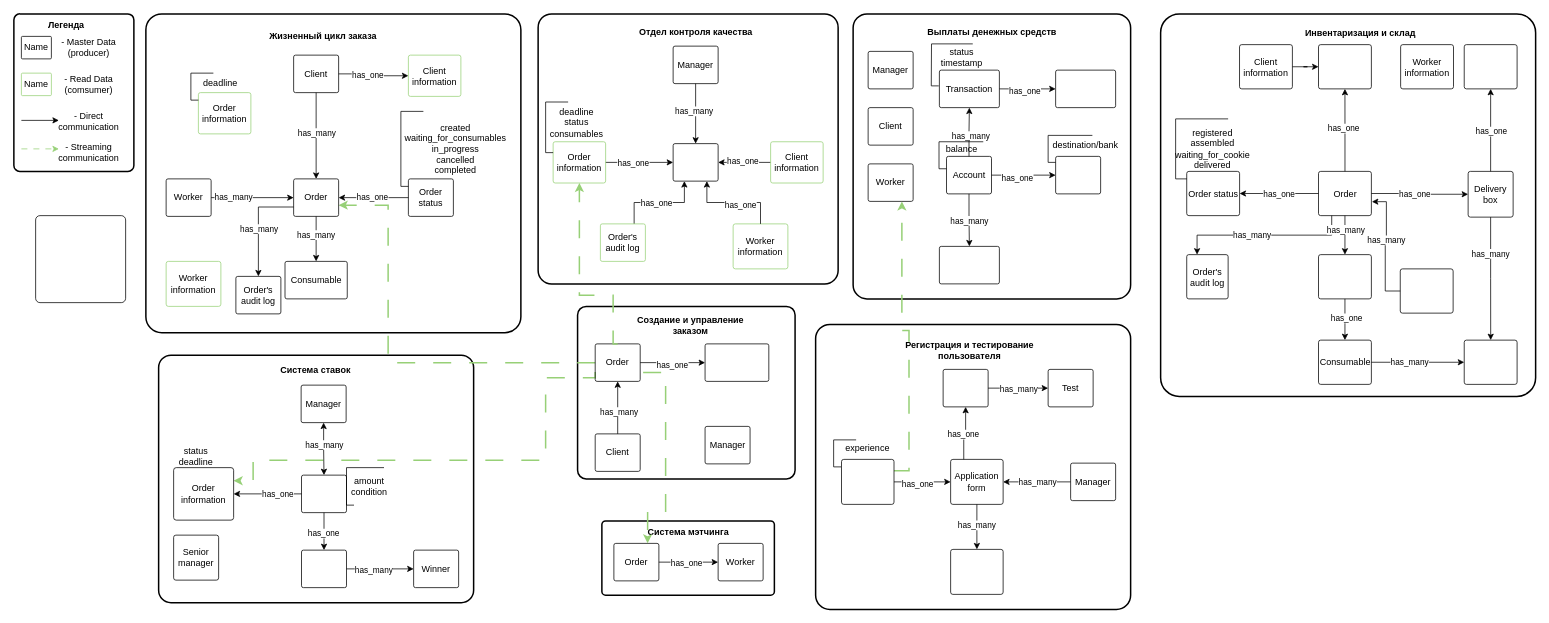
Image size: 1549x623. Some labels were removed from this diagram. Each missing label, with the box of its shape:
Account settings: (1055, 156, 1101, 194)
Application form's audit log: (950, 549, 1003, 594)
Bet: (301, 474, 346, 513)
Consumable warehouse position: (1463, 339, 1517, 384)
Cookie: (1318, 44, 1371, 89)
Delivery address: (1463, 44, 1517, 89)
Employee (warehouse): (1400, 268, 1453, 313)
Invoice: (939, 246, 999, 284)
Item: (1318, 254, 1371, 299)
Order report: (672, 143, 718, 181)
Order type: (704, 343, 769, 381)
payment: (1055, 69, 1116, 108)
Test Suite: (942, 369, 988, 407)
Winnings: (301, 549, 346, 588)
Worker (candidate): (841, 459, 894, 504)
ПОКА НИКАКИХ ИЗМЕНЕНИЙ, ПРОСТО ДУБЛИКАТ: (35, 215, 126, 303)
